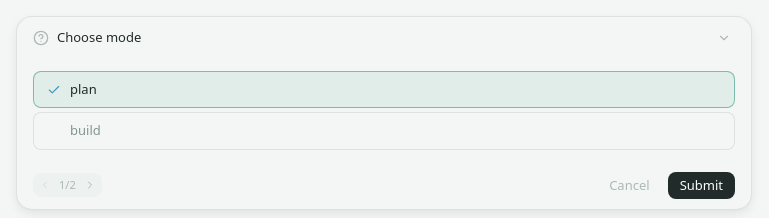
Test: ExtensionUiDialogHost › switches to the next queued request via the pager
Note: 切换到下一个：只是换显示，两个请求都还在队列里
Step 1. Click the button titled "Next" → {"x": 90, "y": 185}, box [80,175,100,195]
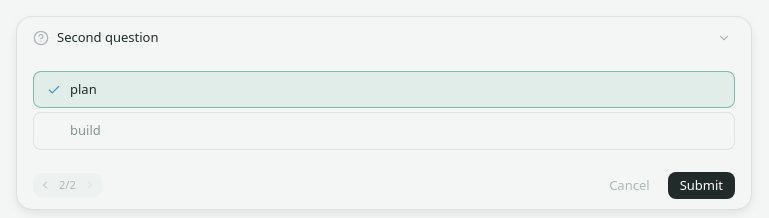
Now the heading "Second question" is shown, box [57,28,158,47]
Now the text "2/2" is shown, box [59,177,76,192]
Step 2. Click the button titled "Previous" → {"x": 45, "y": 185}, box [35,175,55,195]
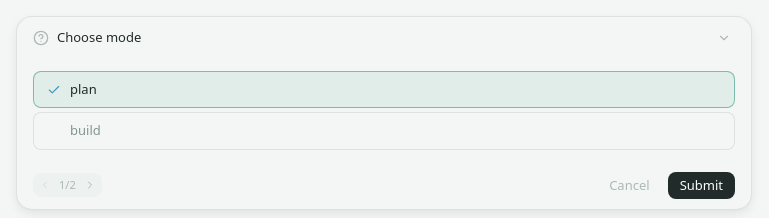
Now the heading "Choose mode" is shown, box [57,28,141,47]
